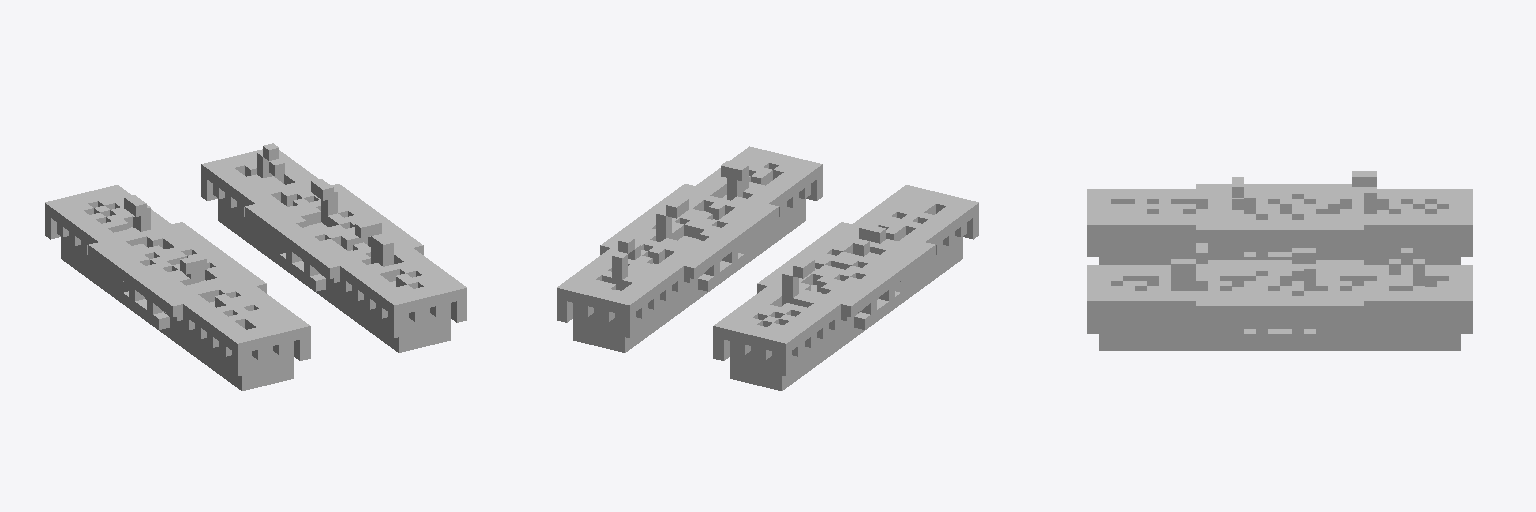
The model's file is villagePlanterBoxes-0.obj.
3 renders of one model, left to right at view 1: azimuth 30°, elevation 25°; view 2: azimuth 150°, elevation 25°; view 3: azimuth 270°, elevation 25°, orthographic.
Parts seen in each view (by area): view 1: object 1; view 2: object 1; view 3: object 1.
Boxes of the visible parts, box(x1,y1,x2,y2) form: object 1: box(45, 143, 466, 390); object 1: box(557, 146, 978, 390); object 1: box(1087, 171, 1472, 350).
Size of the model in its own units: 2.4 by 0.8 by 3.2.